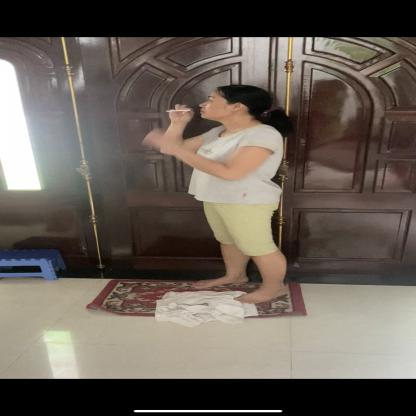cigarette: (163, 108, 191, 112)
person: (134, 81, 290, 306)
